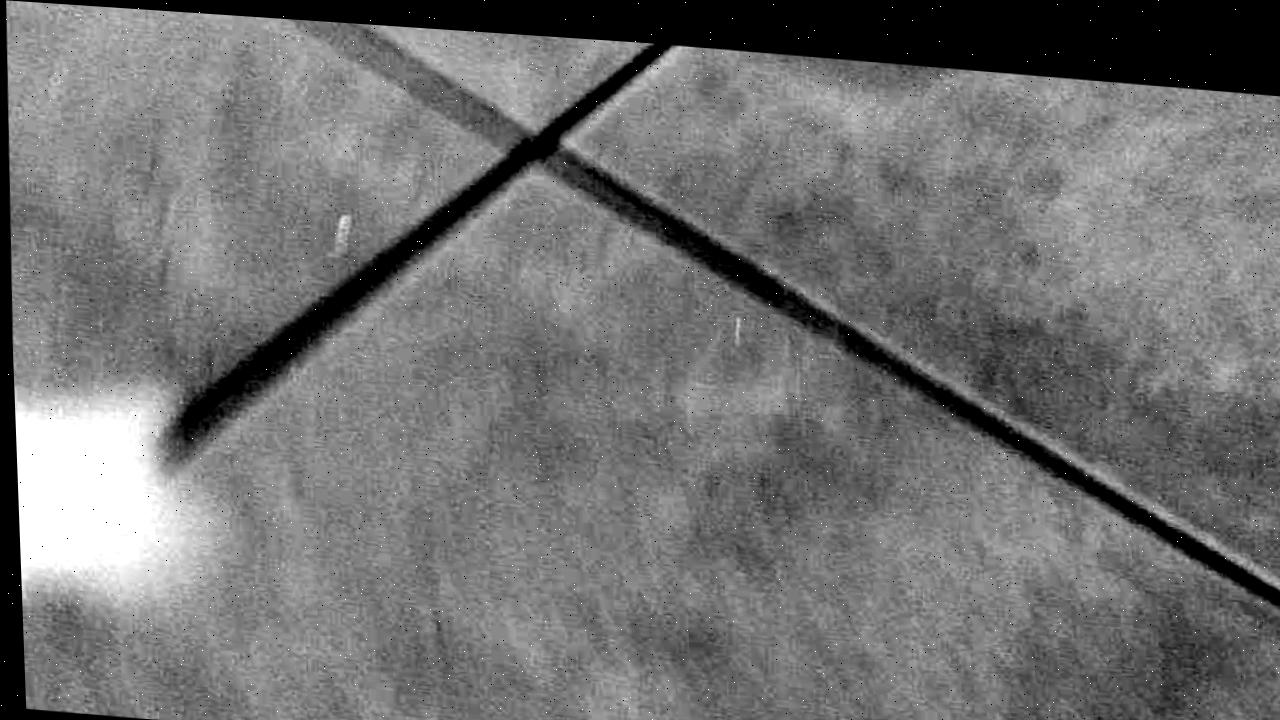drinks Stains: (10, 349, 220, 720)
